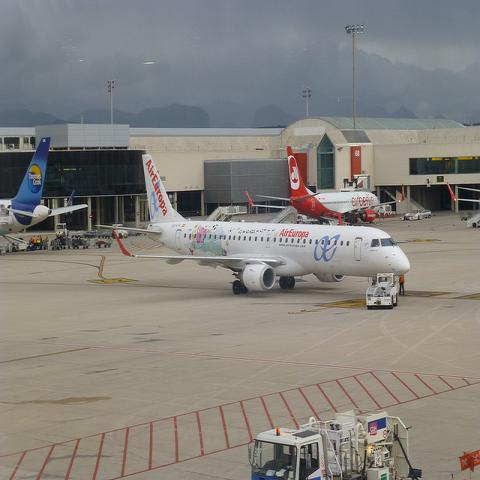car: (405, 208, 422, 220), (422, 210, 431, 216)
truck: (255, 411, 411, 472), (364, 272, 398, 309), (51, 236, 71, 250), (71, 234, 88, 250), (114, 230, 128, 239)
